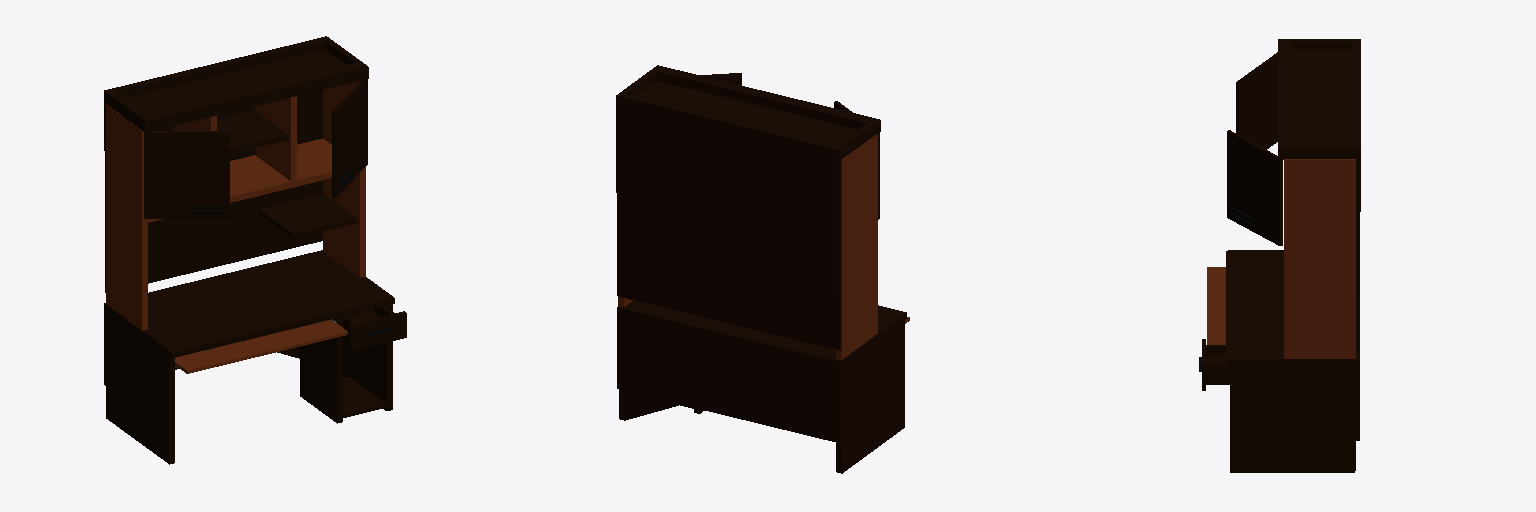
Rendered from desk9.obj.
3 views of the same model, side by side, from view 1: azimuth 30°, elevation 25°; view 2: azimuth 150°, elevation 25°; view 3: azimuth 270°, elevation 25° (orthographic).
Visible parts, largest first — view 1: BasicDesk_TwoCabinets&OneDrawers, LeftCabinet.001, RightCabinet.001, Slide, Drawer; view 2: BasicDesk_TwoCabinets&OneDrawers; view 3: BasicDesk_TwoCabinets&OneDrawers, RightCabinet.001, LeftCabinet.001, Slide, Drawer.
Part boxes in pixels (x1,y1,x2,y2): BasicDesk_TwoCabinets&OneDrawers: (104, 36, 394, 464); LeftCabinet.001: (144, 131, 229, 219); RightCabinet.001: (332, 79, 367, 197); Slide: (175, 320, 347, 373); Drawer: (343, 306, 406, 350); BasicDesk_TwoCabinets&OneDrawers: (616, 65, 906, 473); BasicDesk_TwoCabinets&OneDrawers: (1226, 39, 1360, 472); RightCabinet.001: (1227, 130, 1282, 245); LeftCabinet.001: (1236, 52, 1277, 149); Slide: (1207, 267, 1225, 344); Drawer: (1199, 339, 1229, 390).
Bounding box in the file's own units: 2.72 × 3.79 × 1.71.